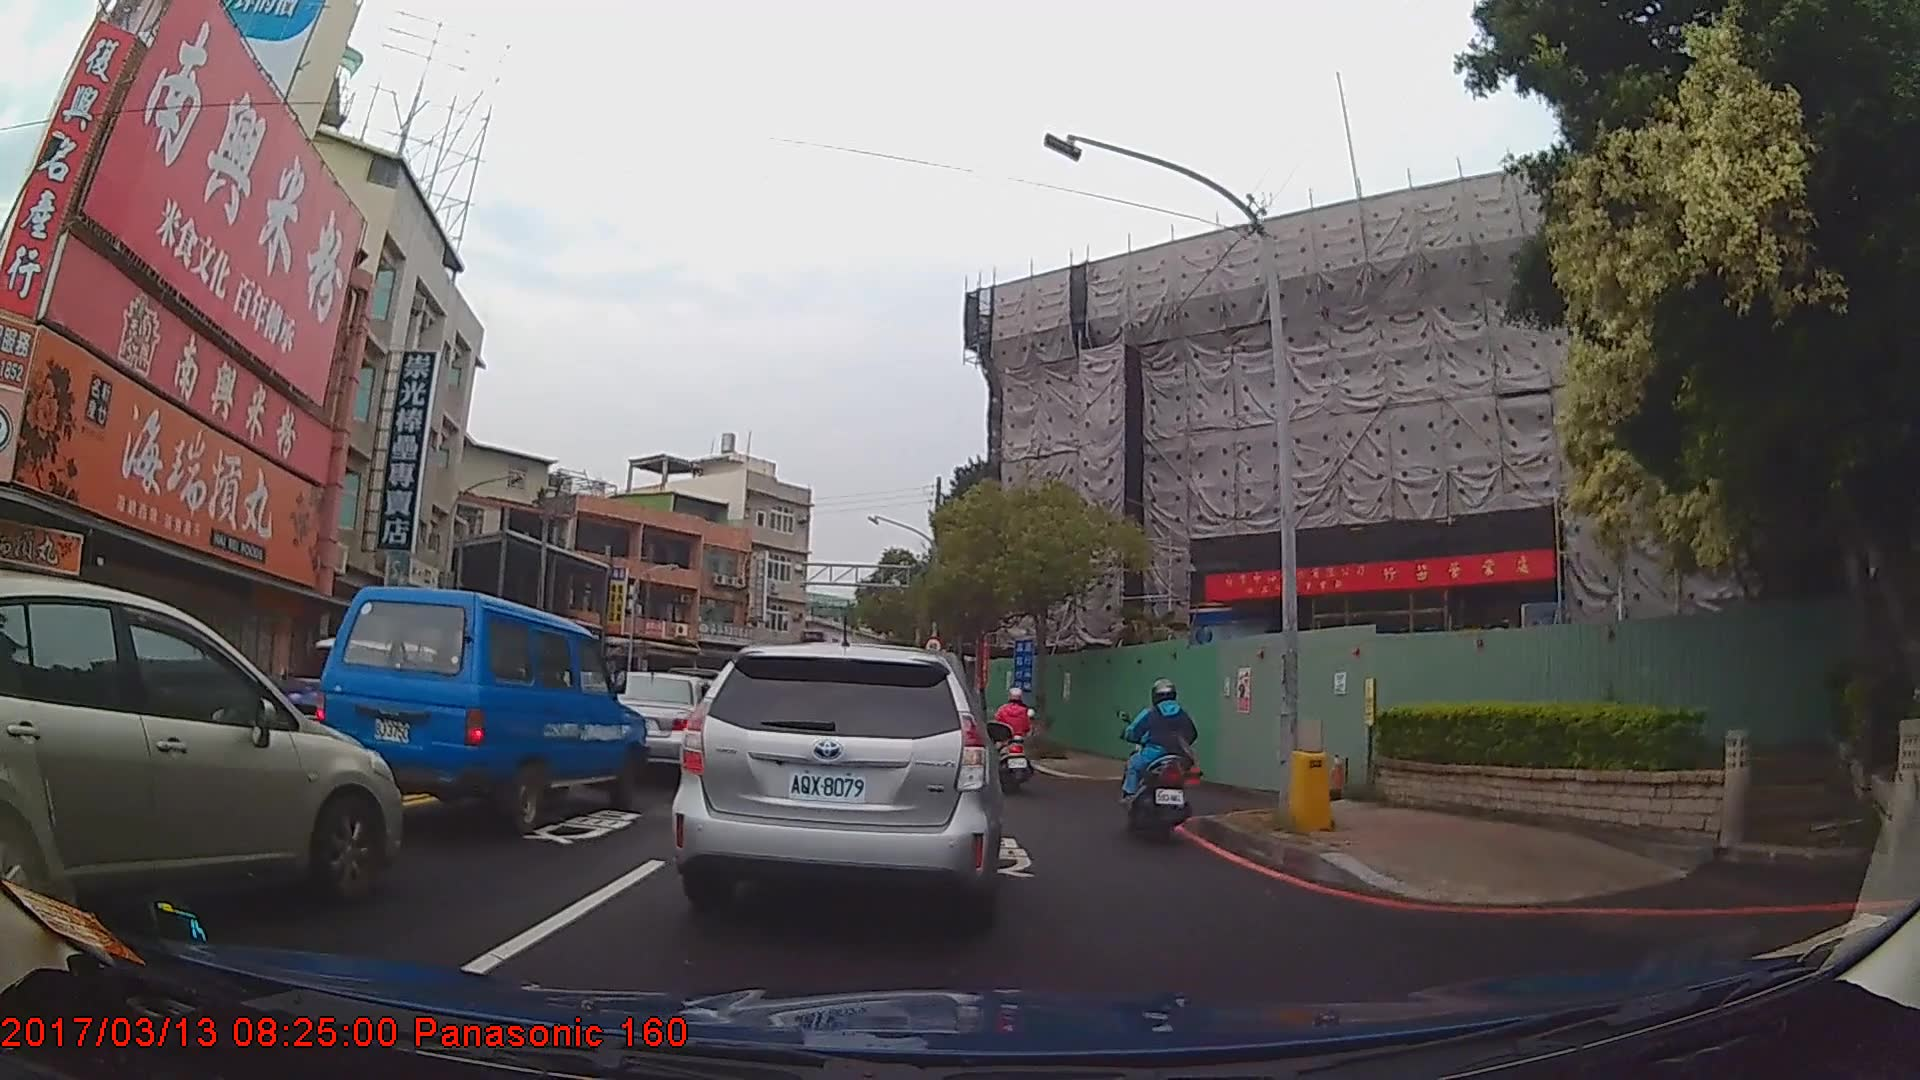rider: (1121, 678, 1199, 846), (990, 686, 1042, 796)
vehicle: (0, 570, 402, 938), (668, 638, 1003, 935), (310, 582, 647, 829), (592, 666, 723, 786)
